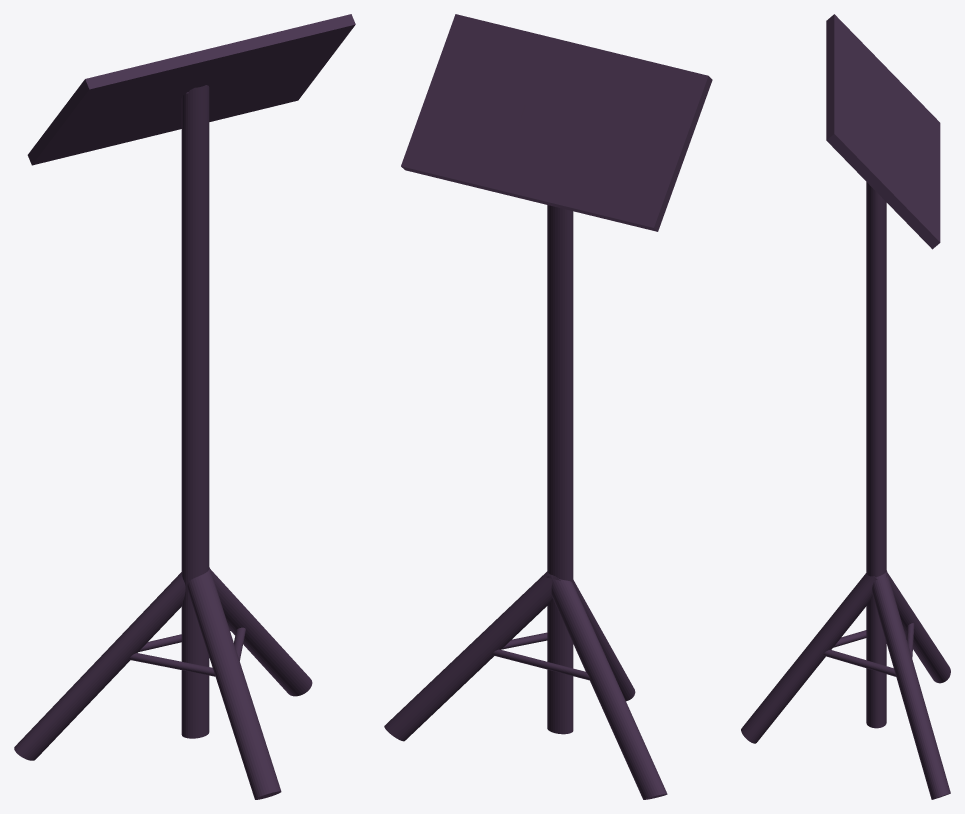
The model's file is Atril.obj.
The picture shows the model from 3 angles, left to right: view 1: azimuth 30°, elevation 25°; view 2: azimuth 150°, elevation 25°; view 3: azimuth 270°, elevation 25°; orthographic projection. The views are drawn at different scales.
Visible parts, largest first — view 1: Cilindro.002; view 2: Cilindro.002; view 3: Cilindro.002.
Boxes of the visible parts, left/top/right/bottom form: Cilindro.002: left=14, top=14, right=355, bottom=799; Cilindro.002: left=384, top=14, right=712, bottom=799; Cilindro.002: left=741, top=14, right=950, bottom=799.
Bounding box in the file's own units: 6 × 14 × 4.
1 material, 1 textured.
